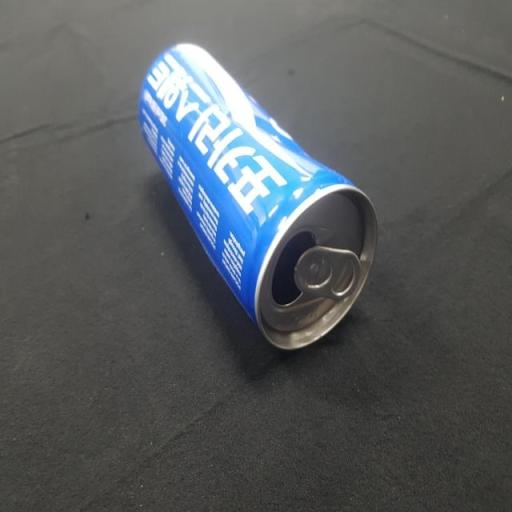metal: (126, 19, 390, 368)
